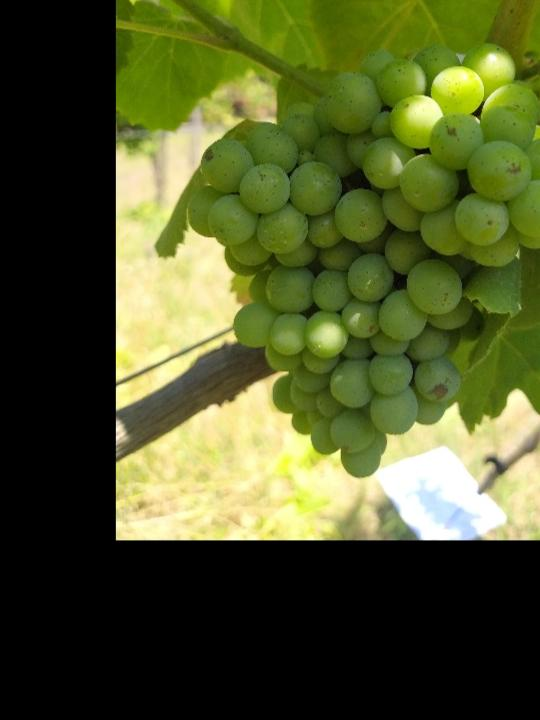grape: (190, 41, 540, 478)
